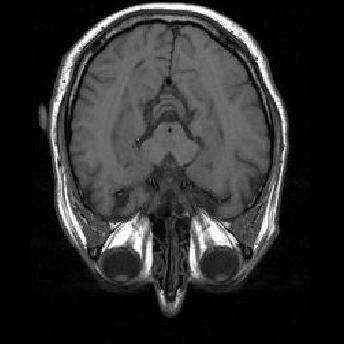Normal_Brain: (3, 1, 327, 319)
